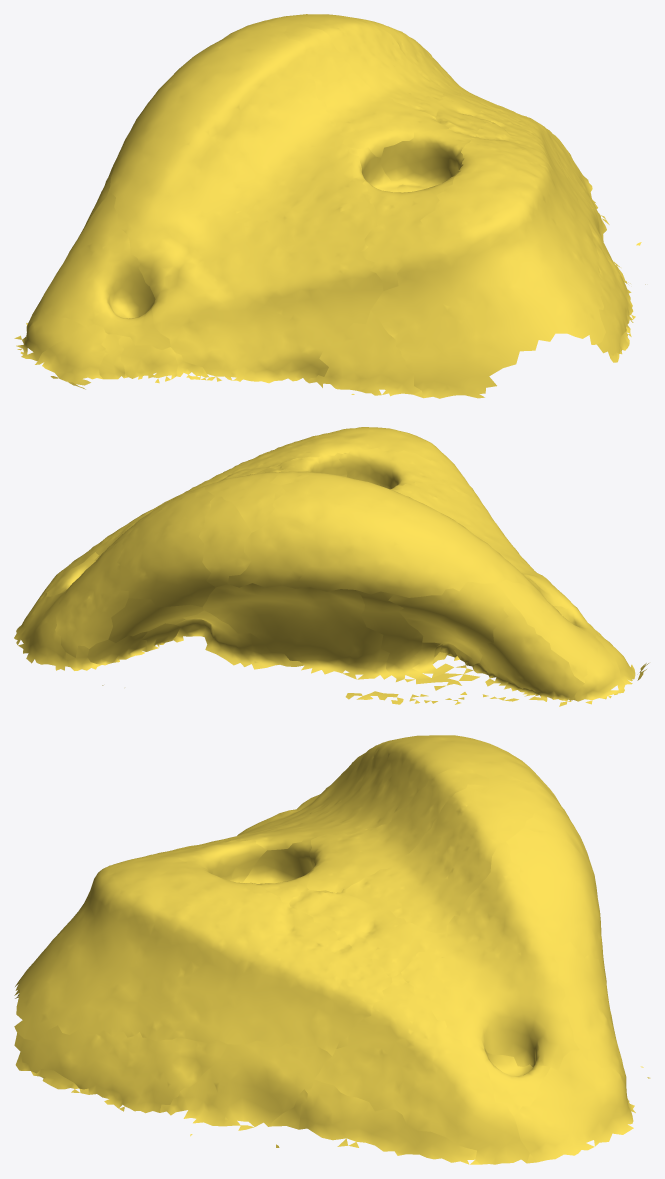
Rendered from test-yellow-clean.glb.
3 renders of one model, top to bottom at view 1: azimuth 30°, elevation 25°; view 2: azimuth 150°, elevation 25°; view 3: azimuth 270°, elevation 25°, orthographic. The views are drawn at different scales.
Visible parts, largest first — view 1: HoldMesh; view 2: HoldMesh; view 3: HoldMesh.
Boxes of the visible parts, x1,y1,x2,y2 form: HoldMesh: (14, 14, 645, 398); HoldMesh: (14, 427, 648, 706); HoldMesh: (14, 735, 650, 1164).
Bounding box in the file's own units: 0.1452 × 0.0491 × 0.1184.
